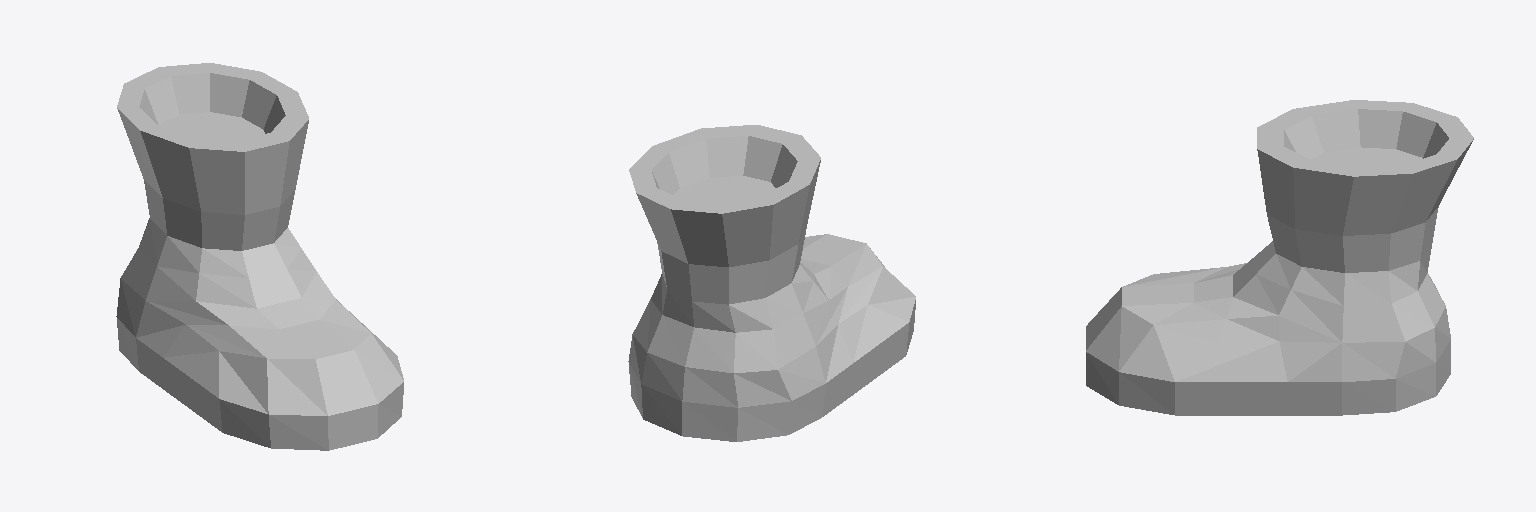
File: objectold.obj
3 renders of one model, left to right at view 1: azimuth 30°, elevation 25°; view 2: azimuth 150°, elevation 25°; view 3: azimuth 270°, elevation 25°, orthographic.
Visible parts, largest first — view 1: Cylinder; view 2: Cylinder; view 3: Cylinder.
Boxes of the visible parts, <box> form: Cylinder: <box>116,63,403,450</box>; Cylinder: <box>628,125,915,441</box>; Cylinder: <box>1086,100,1473,415</box>.
Bounding box in the file's own units: 3.75 × 4.74 × 7.09.